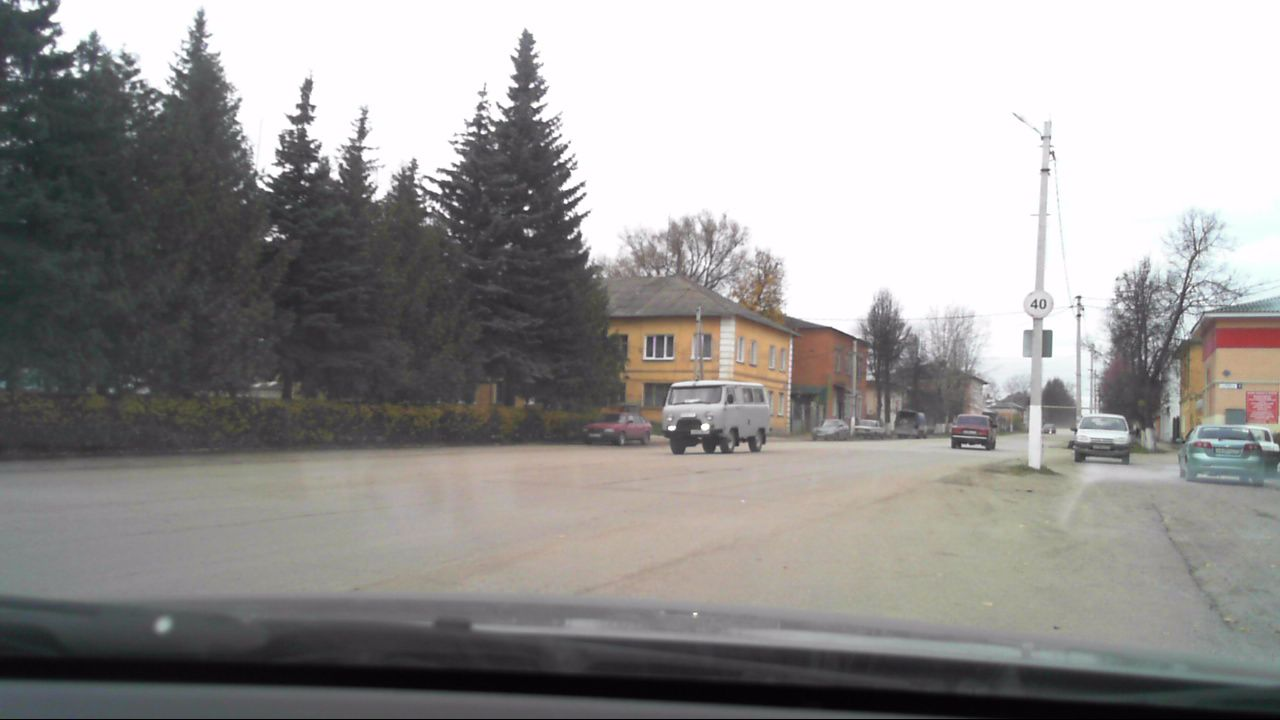speed_warning_40: (1024, 290, 1054, 319)
